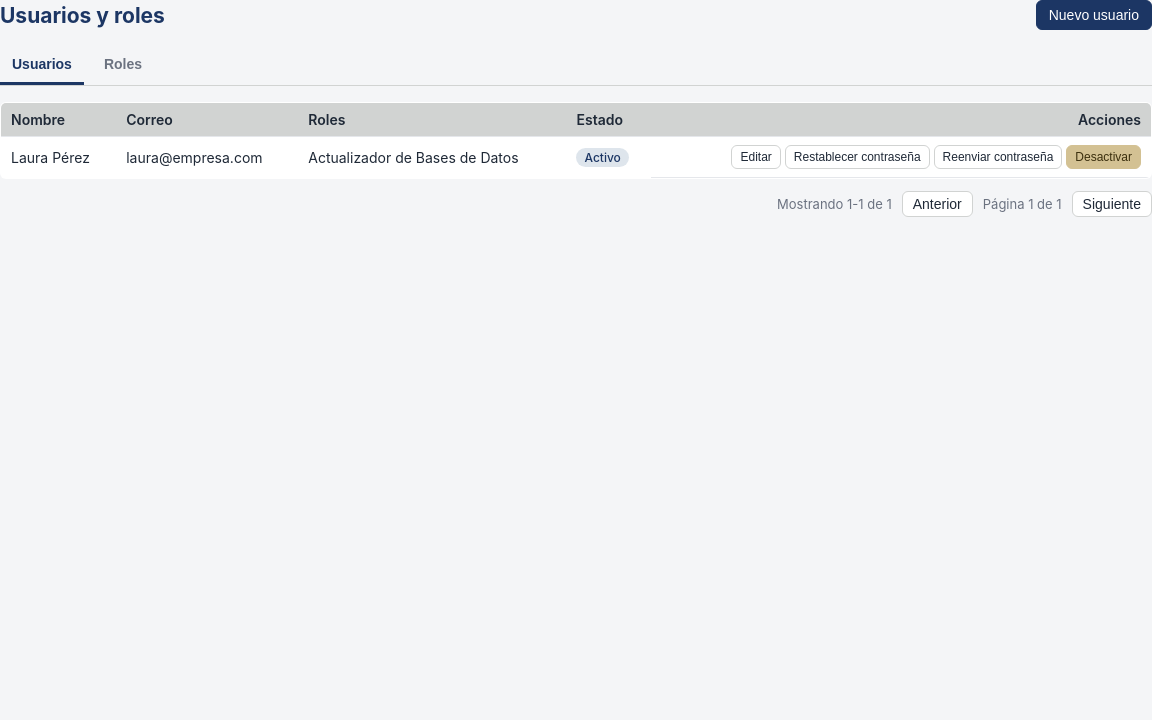
Scenario: UsuariosPage › permite reenviar credenciales generando una nueva contraseña temporal
Expected: the text "Laura Pérez" is shown, [0,136,116,178]
Click the button "Reenviar contraseña". click: (998, 157)
box: [934,145,1062,169]
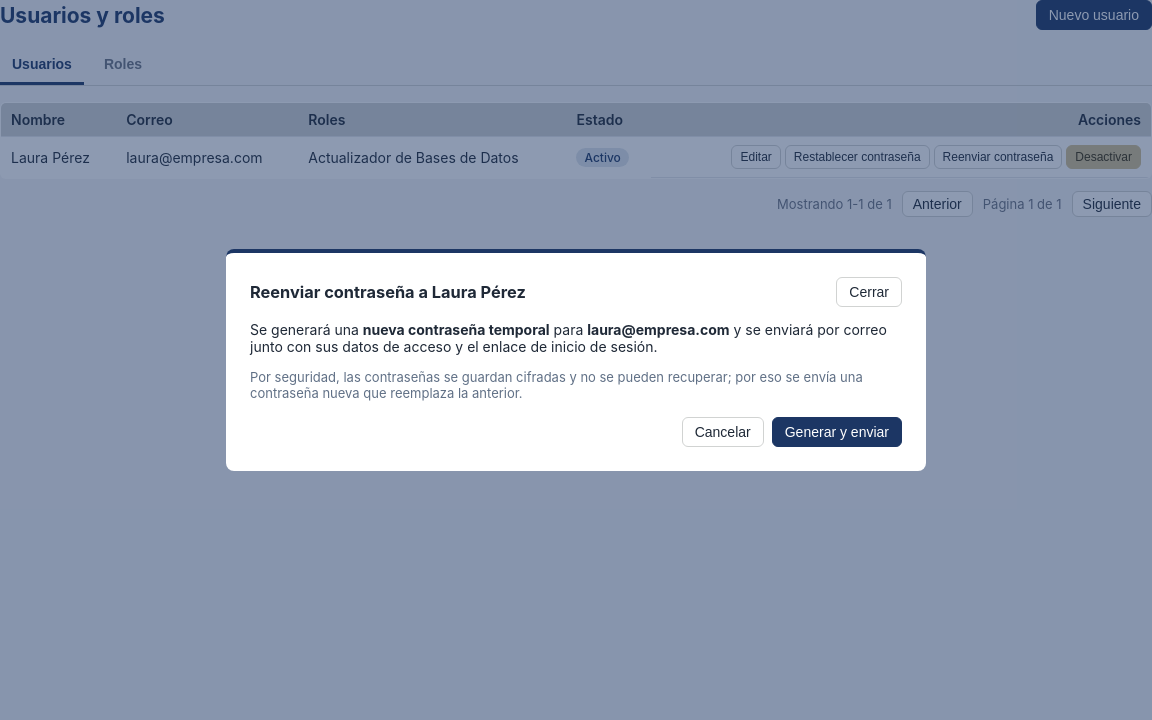
Now the heading "Reenviar contraseña a Laura Pérez" is shown, box [250,282,526,302]
Now the text "nueva contraseña temporal" is shown, box [363,321,550,338]
Now the text "no se pueden recuperar" is shown, box [250,369,863,401]
Click the button "Generar y enviar". click: (837, 432)
box: [772,417,902,447]
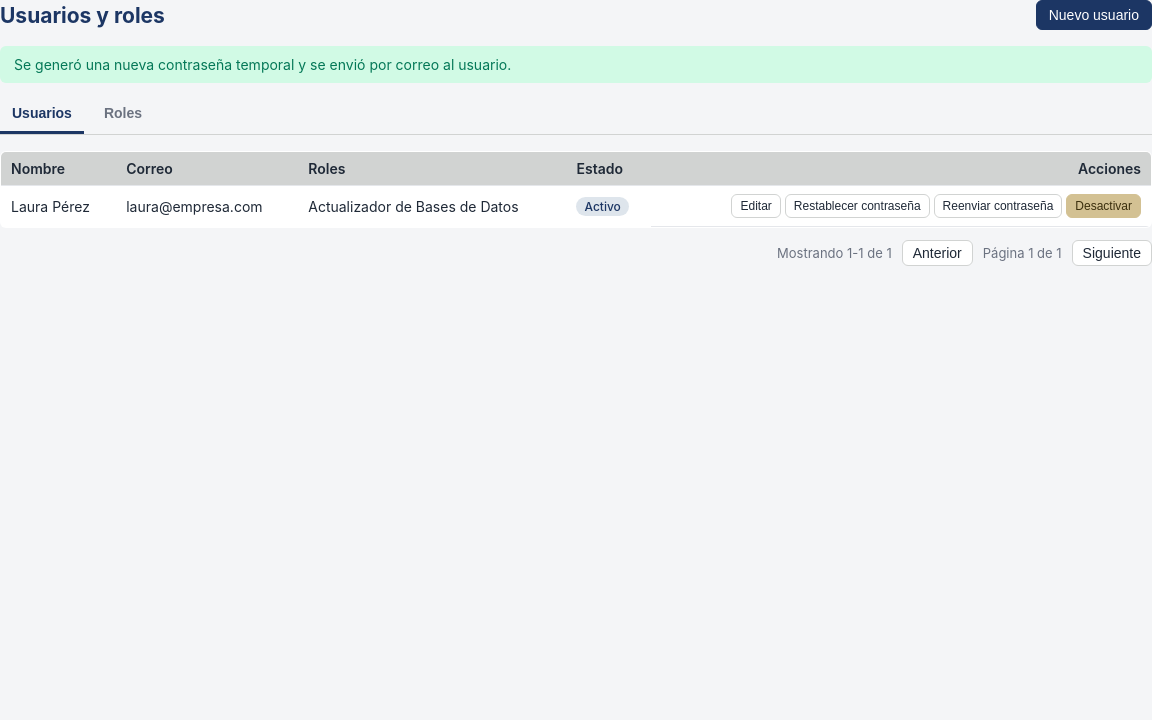
Now the text "Se generó una nueva contraseña temporal" is shown, box [14,56,511,73]
